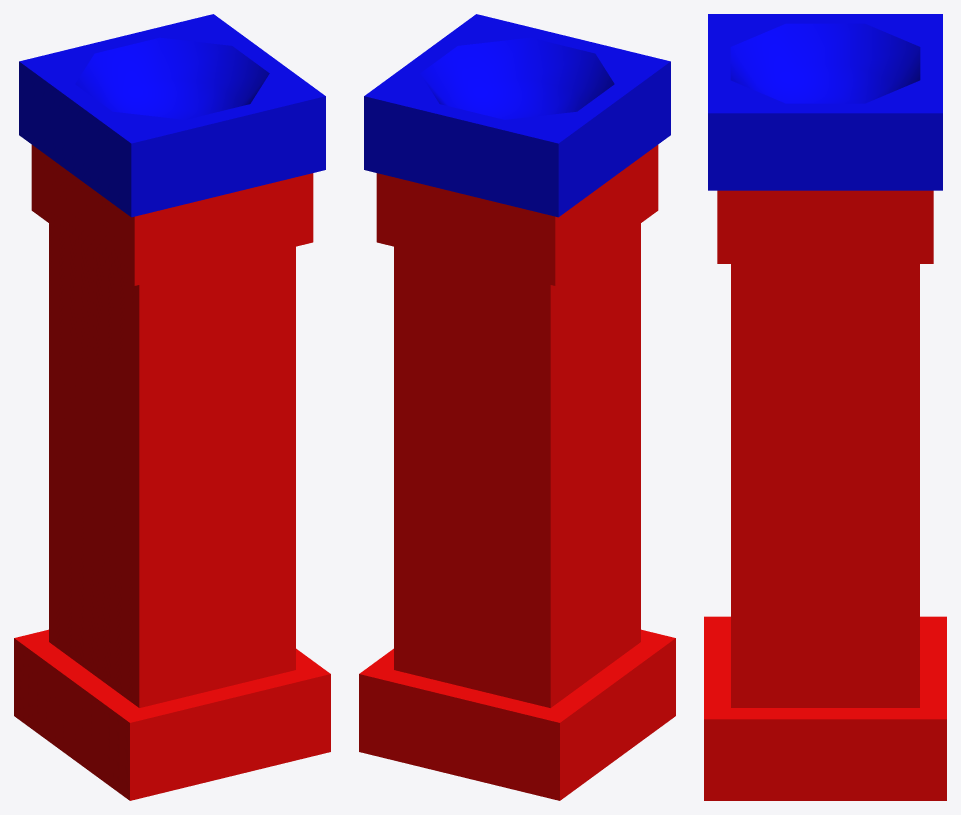
Rendered from Sewer_Ground_Torch.FBX.
3 renders of one model, left to right at view 1: azimuth 30°, elevation 25°; view 2: azimuth 150°, elevation 25°; view 3: azimuth 270°, elevation 25°, orthographic. The views are drawn at different scales.
Parts seen in each view (by area): view 1: Sewer_Ground_Torch; view 2: Sewer_Ground_Torch; view 3: Sewer_Ground_Torch.
Part boxes in pixels (box(x1,y1,x2,y2)): Sewer_Ground_Torch: box(14, 14, 330, 800); Sewer_Ground_Torch: box(359, 14, 675, 800); Sewer_Ground_Torch: box(704, 14, 946, 800).
Bounding box in the file's own units: 32.07 × 100 × 32.07.
